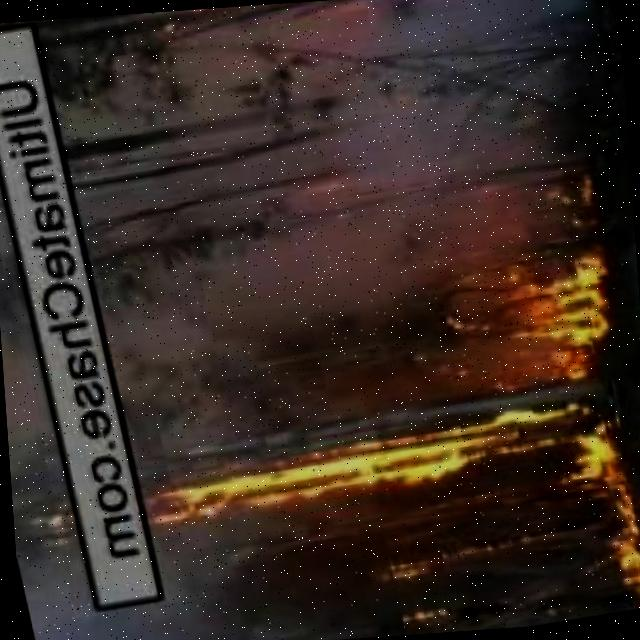fire: (458, 218, 640, 625), (82, 394, 522, 556), (363, 531, 498, 586), (394, 593, 477, 630)
